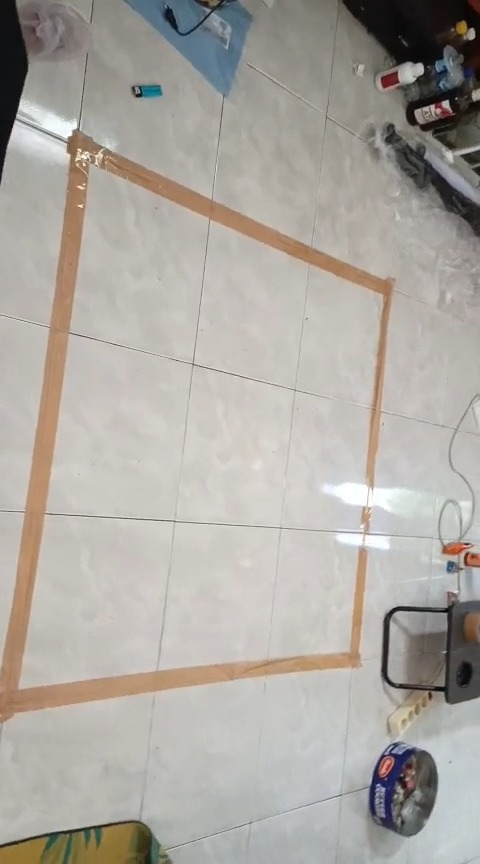floor marking: (0, 130, 391, 719)
